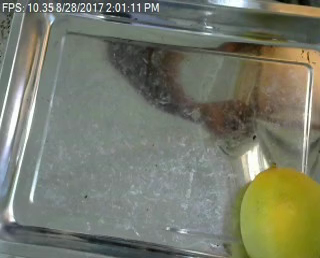Mango: (237, 163, 320, 258)
